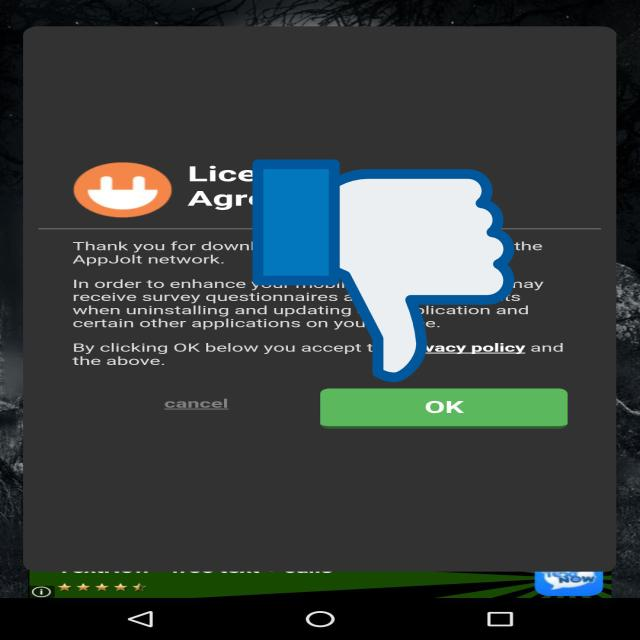obstruction: (252, 155, 514, 387)
